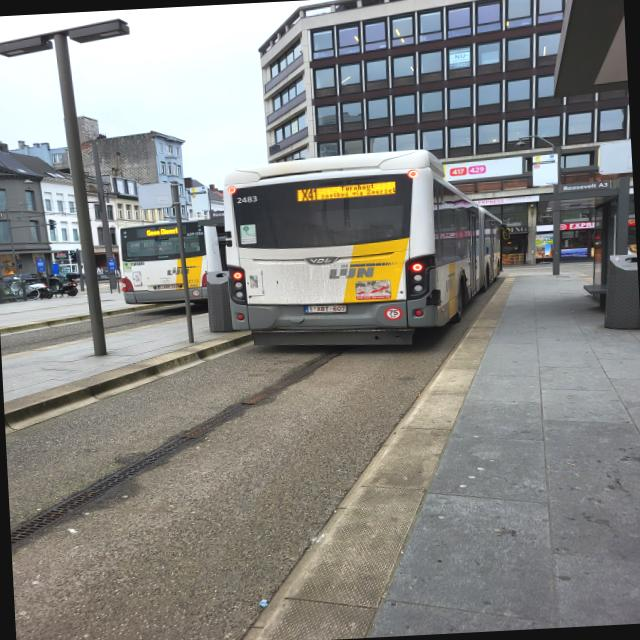bus-number: (301, 188, 318, 202)
